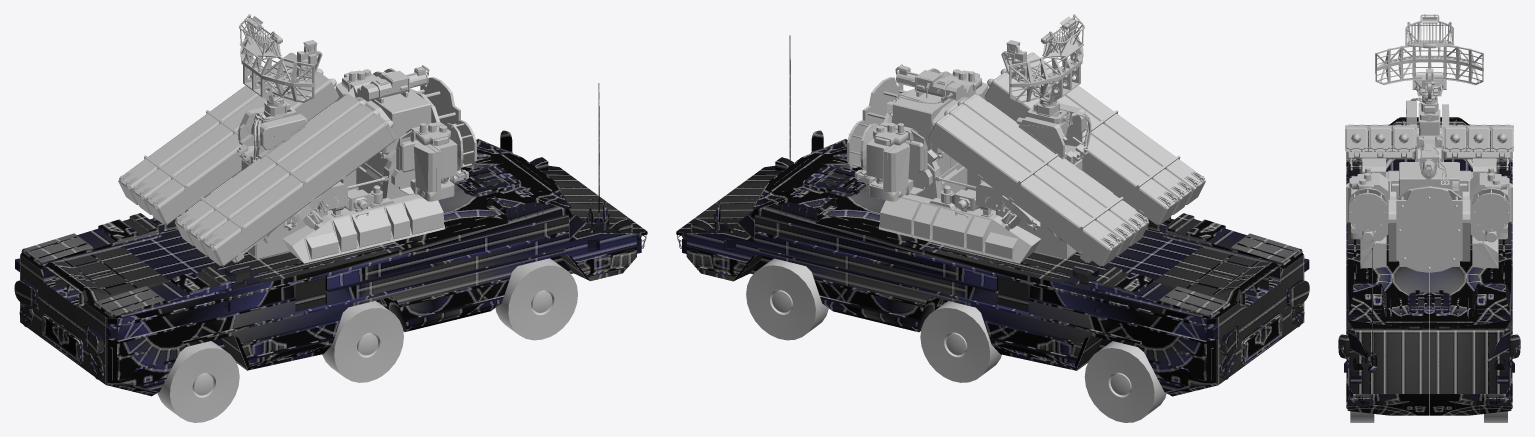
The model's file is SA-8 Gecko.fbx.
3 renders of one model, left to right at view 1: azimuth 30°, elevation 25°; view 2: azimuth 150°, elevation 25°; view 3: azimuth 270°, elevation 25°, orthographic. The views are drawn at different scales.
Visible parts, largest first — view 1: SA-8, SA-8 G-radar, Redar; view 2: SA-8, SA-8 G-radar, Redar; view 3: SA-8, SA-8 G-radar, Redar, Cap_005 (×2), Cap_003, Cap_001, Cap_002, Cap_004.
Part boxes in pixels (x1,y1,x2,y2): SA-8: (14, 83, 647, 422); SA-8 G-radar: (118, 53, 476, 266); Redar: (239, 14, 322, 105); SA-8: (676, 35, 1309, 422); SA-8 G-radar: (847, 53, 1205, 266); Redar: (1001, 14, 1084, 105); SA-8: (1338, 117, 1520, 422); SA-8 G-radar: (1345, 97, 1513, 272); Redar: (1375, 14, 1483, 102); Cap_005 (×2): (1467, 127, 1513, 151); Cap_003: (1392, 127, 1415, 151); Cap_001: (1345, 127, 1367, 151); Cap_002: (1369, 127, 1391, 151); Cap_004: (1444, 127, 1466, 151).
Bounding box in the file's own units: 9.26 × 5.59 × 3.06.
